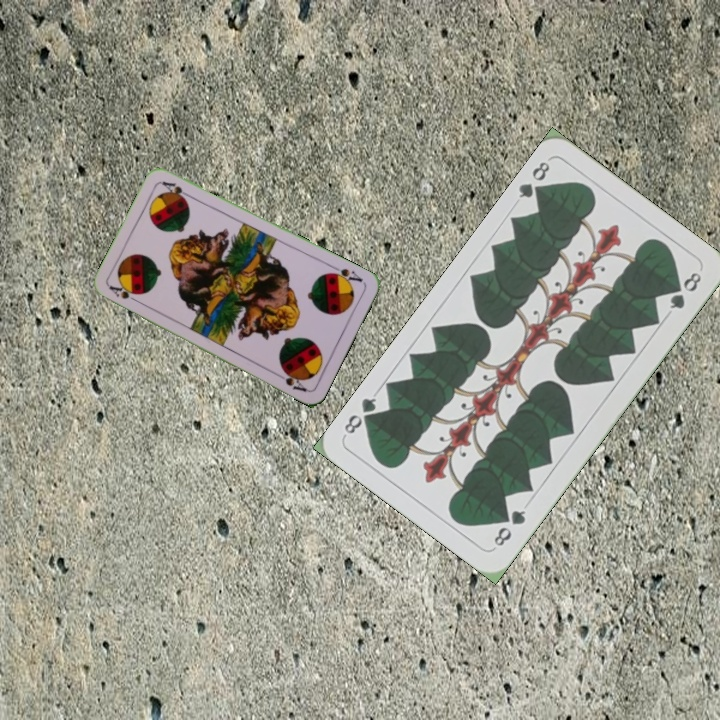G8: (514, 157, 553, 203), (489, 506, 529, 549)
SA: (325, 262, 365, 287), (105, 281, 143, 306)
